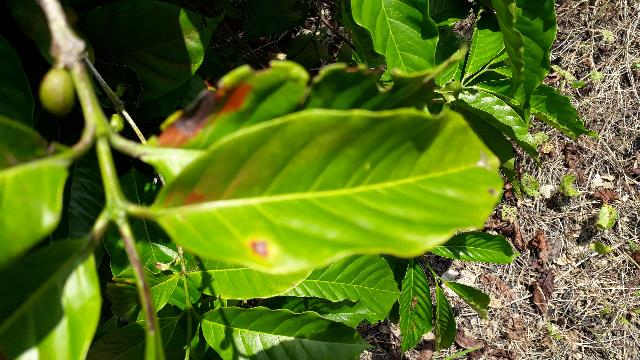red_spider_mite: (142, 107, 506, 277)
